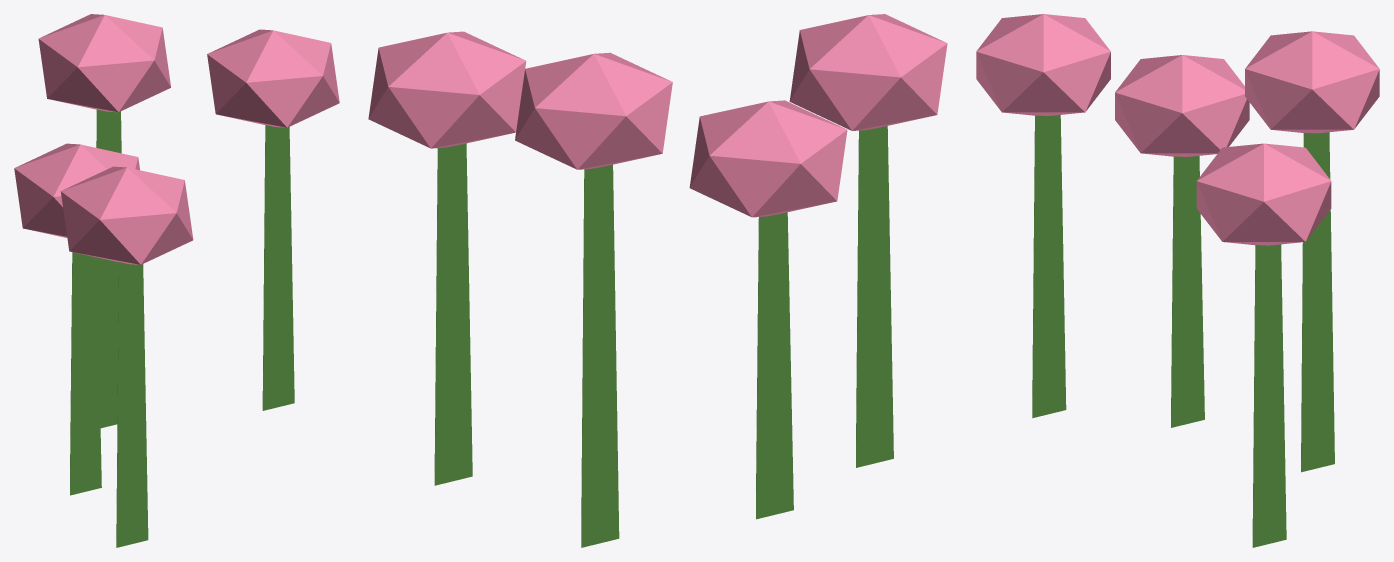
The model's file is Flowers_A.glb.
3 views of the same model, side by side, from view 1: azimuth 30°, elevation 25°; view 2: azimuth 150°, elevation 25°; view 3: azimuth 270°, elevation 25° (orthographic). The views are drawn at different scales.
Parts seen in each view (by area): view 1: Flowers_A; view 2: Flowers_A; view 3: Flowers_A.
Boxes of the visible parts, left/top/right/bottom form: Flowers_A: left=14, top=14, right=339, bottom=547; Flowers_A: left=368, top=14, right=947, bottom=547; Flowers_A: left=976, top=14, right=1379, bottom=547.
Bounding box in the file's own units: 0.3962 × 0.4217 × 0.3565.
